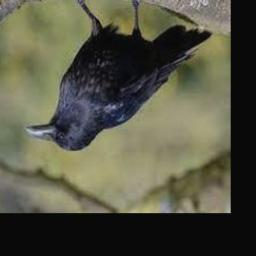Crow: (24, 0, 212, 151)
